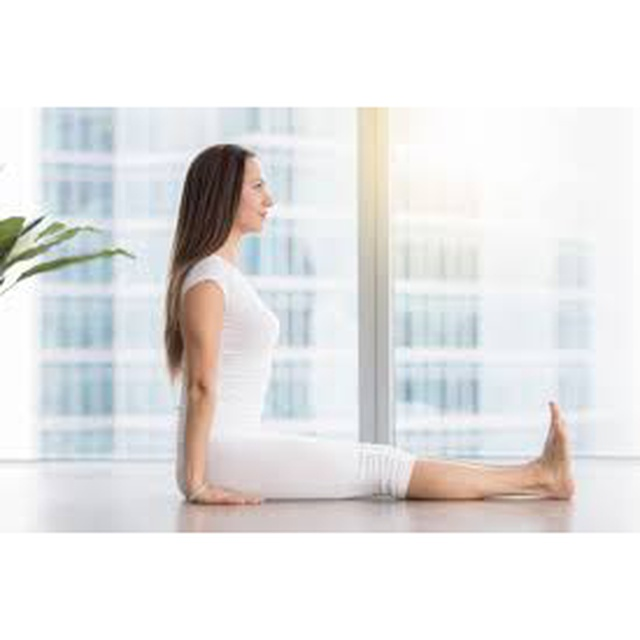Staff_Pose: (163, 143, 577, 507)
